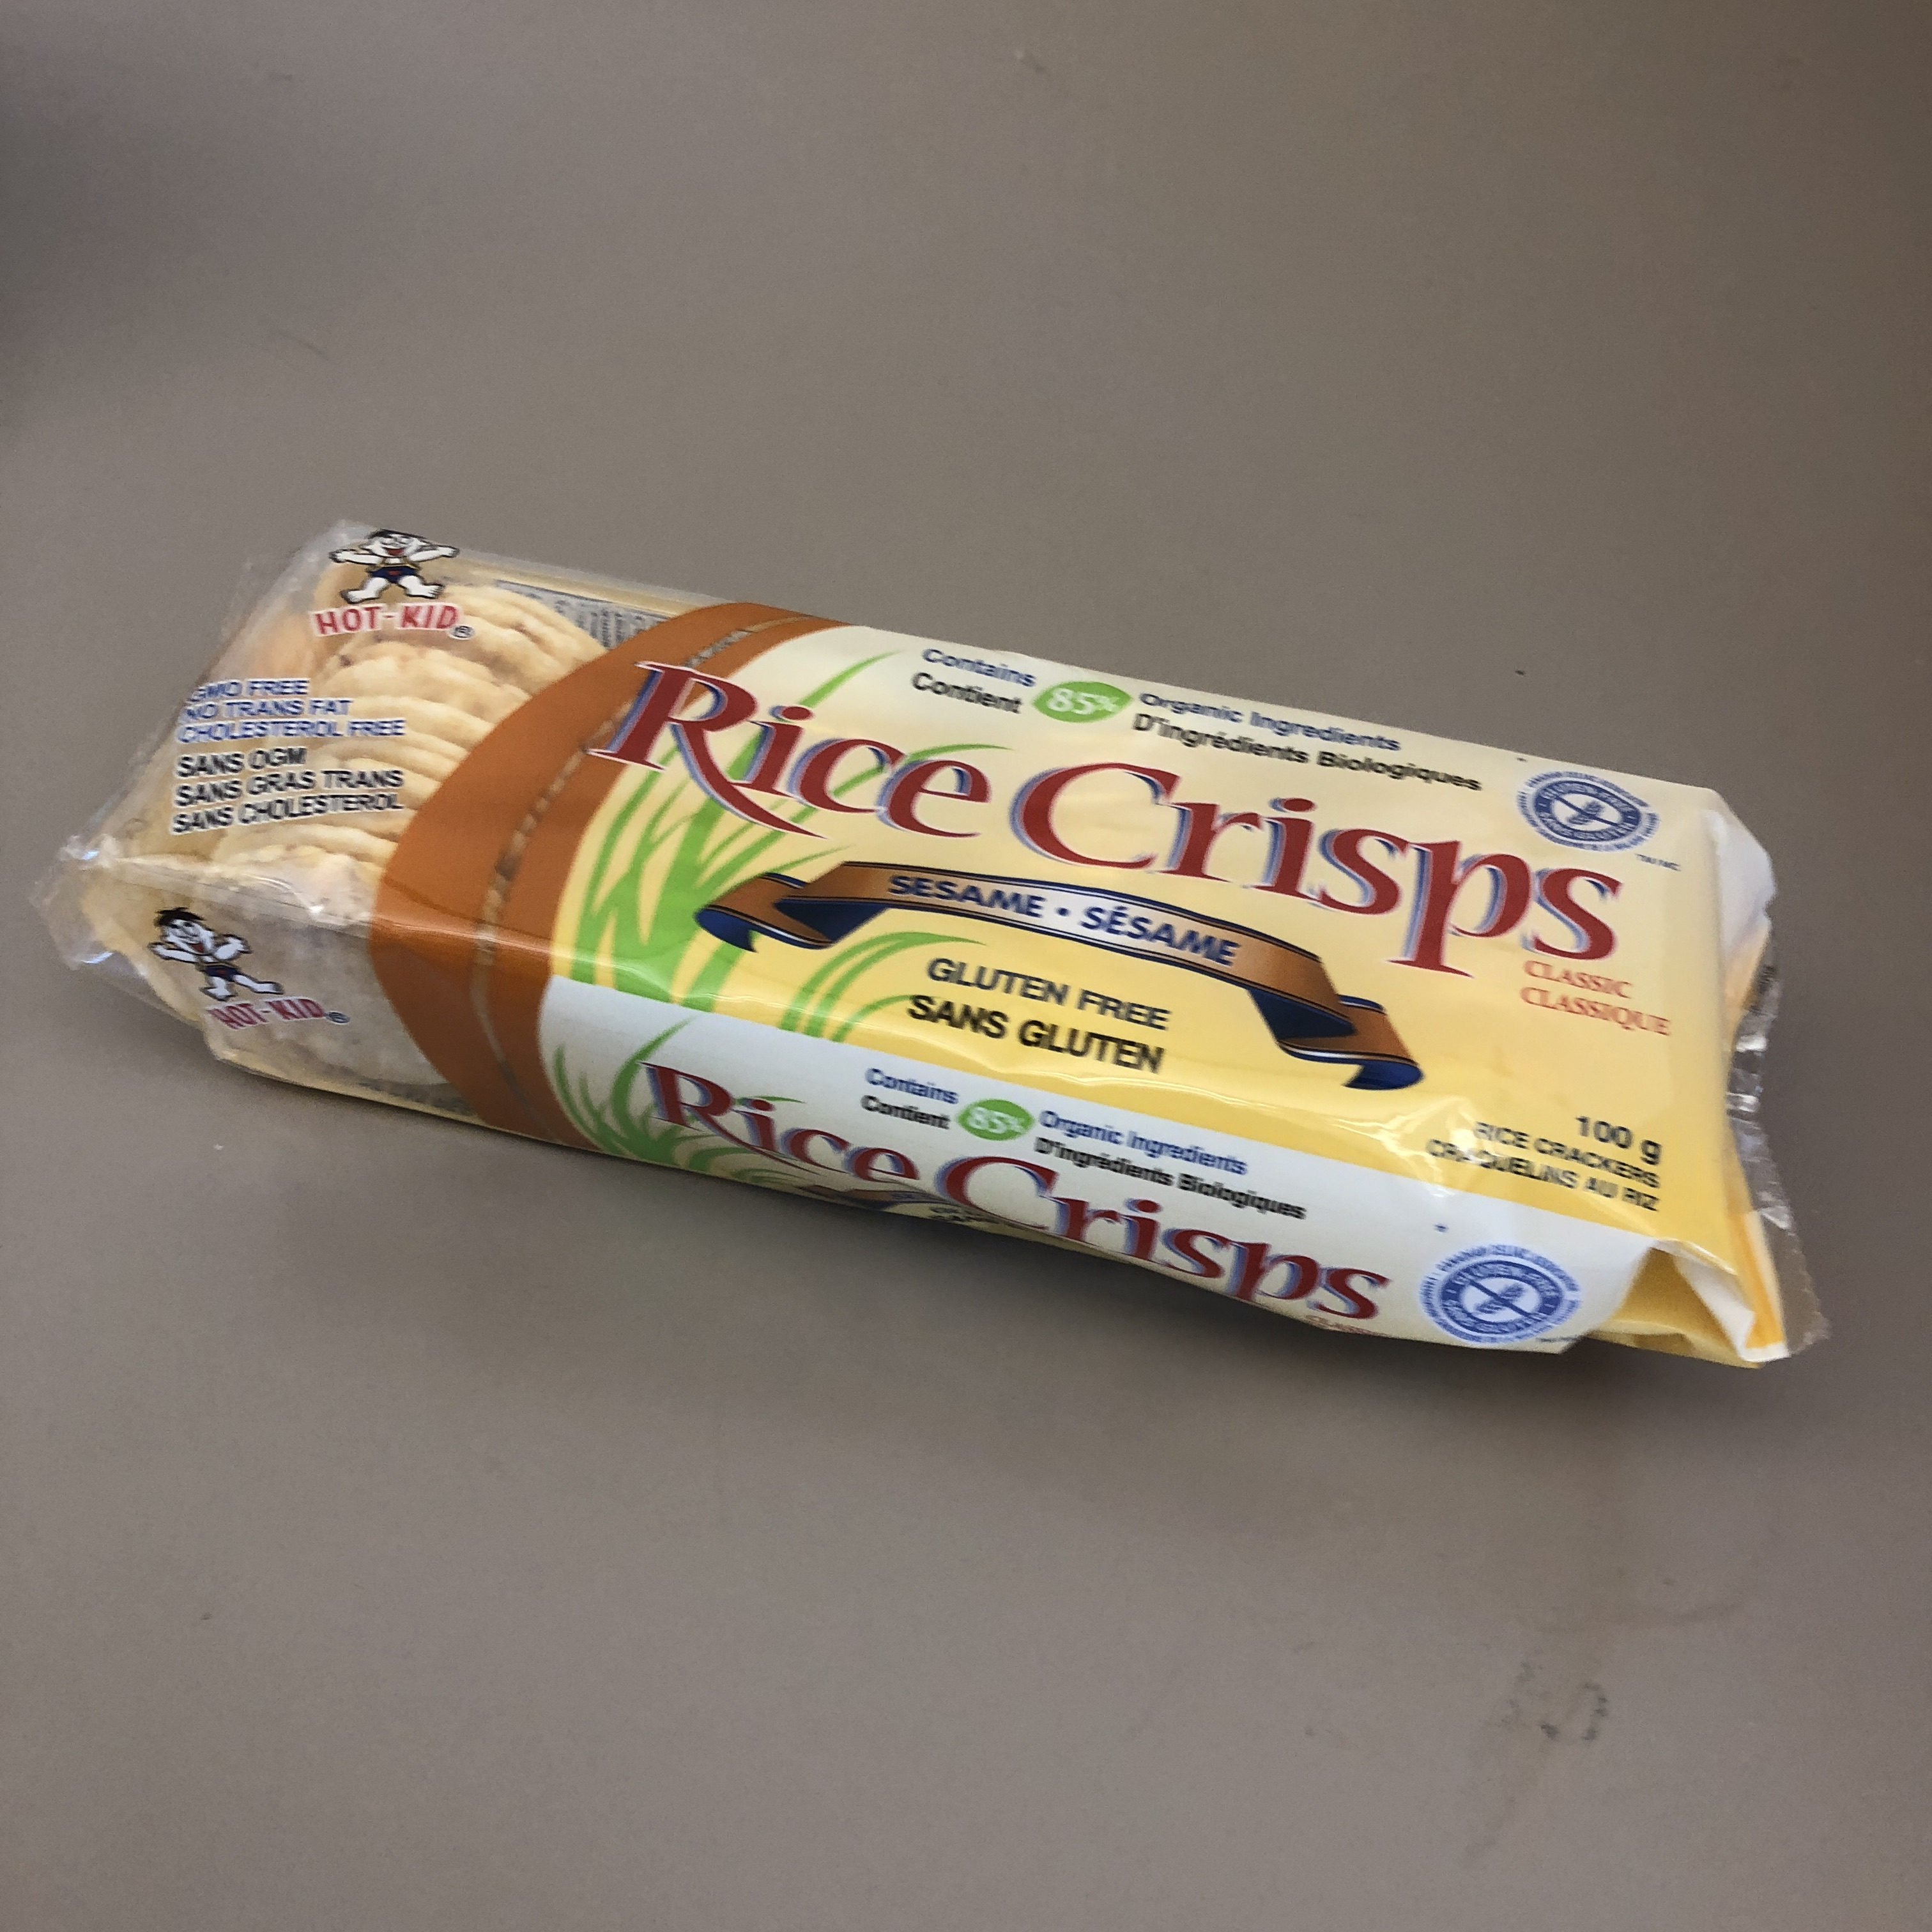hot_kid_rice_crisps_sesame: (503, 182, 1401, 1766)
